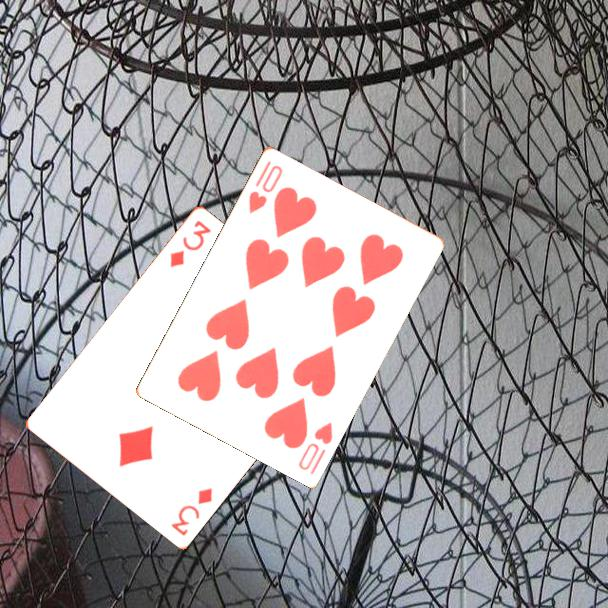d03: (167, 483, 215, 538), (166, 216, 214, 270)
h10: (245, 157, 286, 216), (294, 418, 335, 477)
